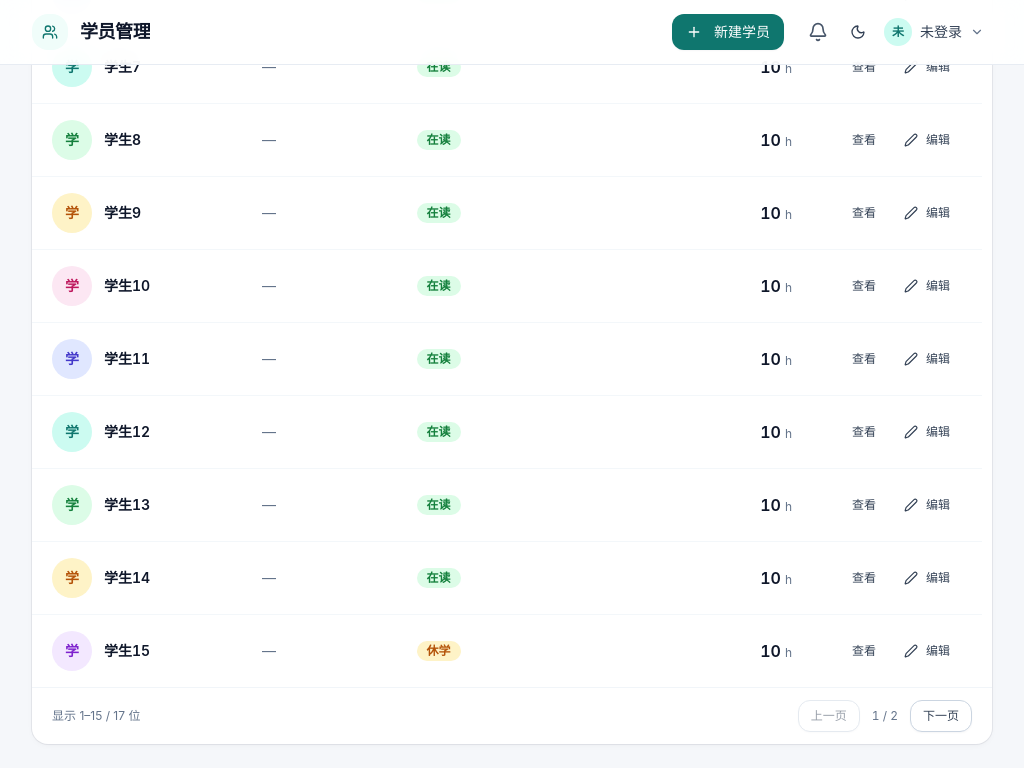
Test case: 翻页和筛选组合使用时，不遗漏记录或留在空白页
(page scrolled)
Check: the link "学生16" is not shown
Click the button "下一页": (941, 716) top-left (910, 700), bottom-right (972, 732)
(page scrolled)
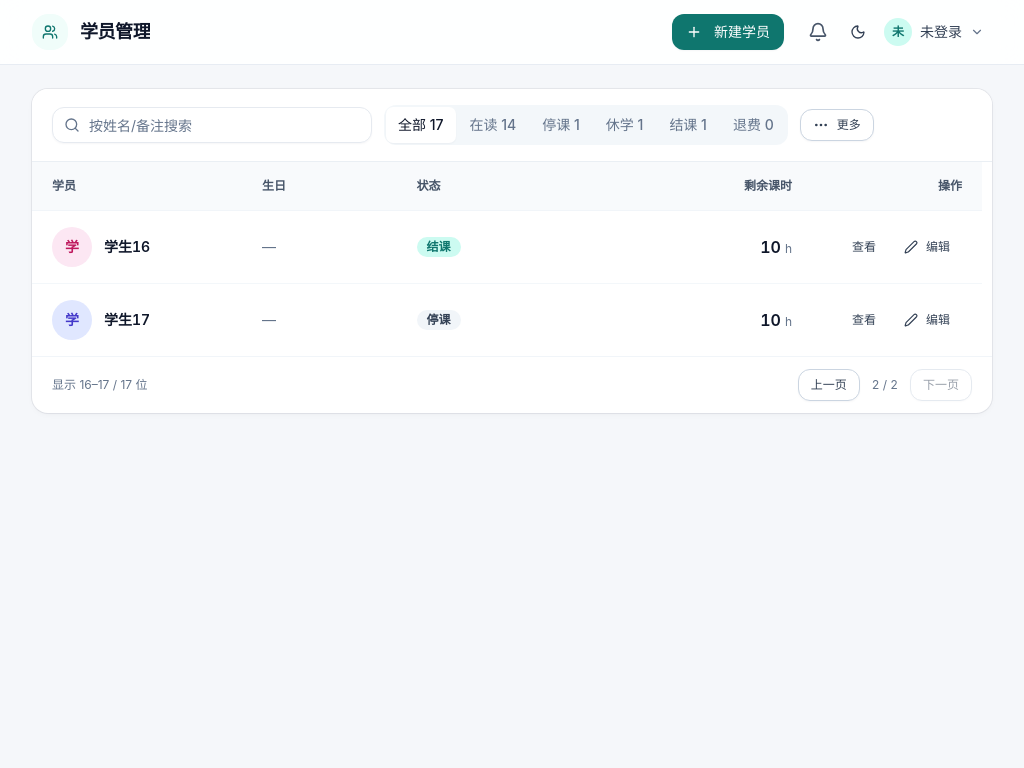
Check: the link "学生16" is shown, box top-left (104, 238), bottom-right (150, 254)
Click the button "停课 1": (561, 125) top-left (530, 107), bottom-right (592, 143)
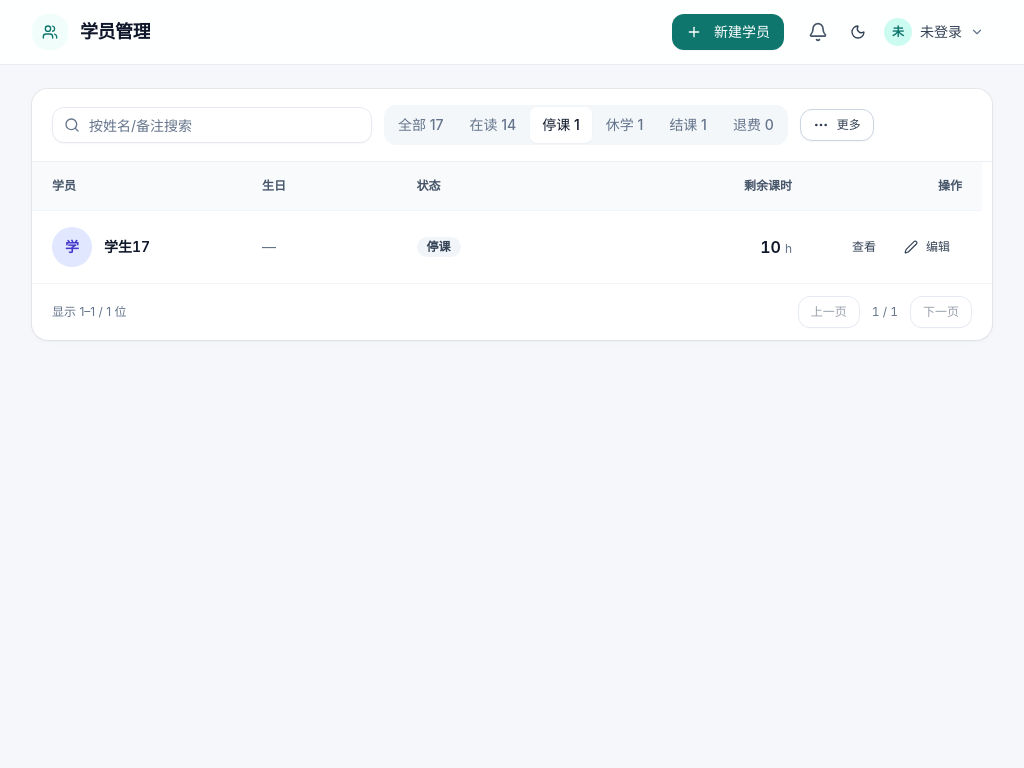
Check: the link "学生17" is shown, box top-left (104, 238), bottom-right (150, 254)
Check: the button "上一页" is disabled, box top-left (798, 296), bottom-right (860, 328)
